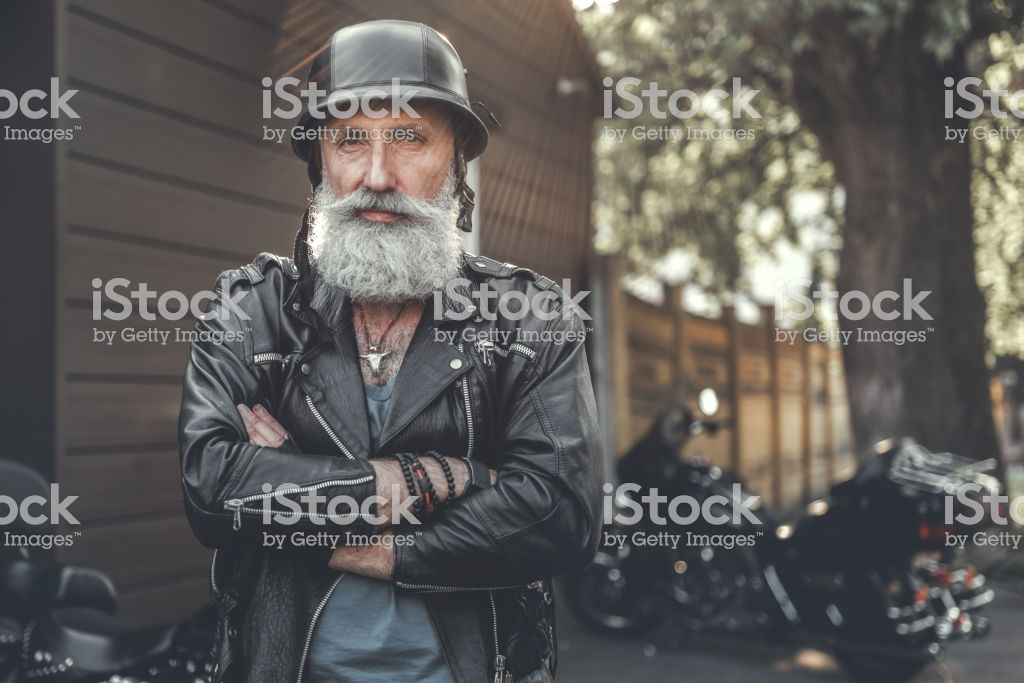helmet: (284, 25, 484, 140)
